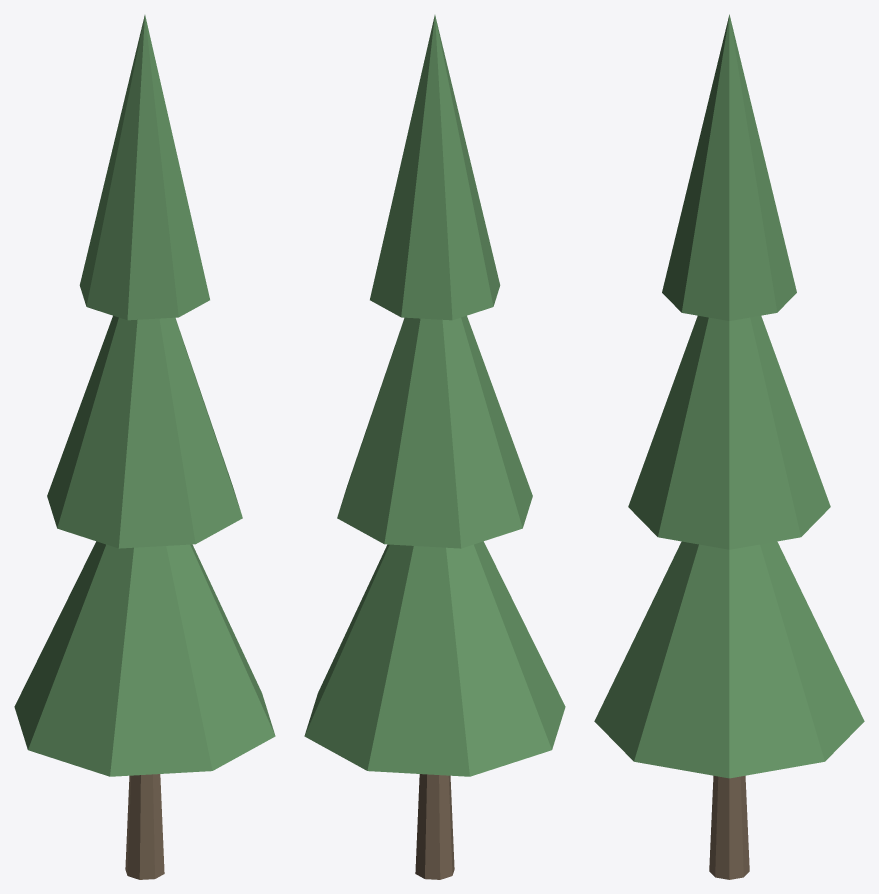
The model's file is pine_large.glb.
3 renders of one model, left to right at view 1: azimuth 30°, elevation 25°; view 2: azimuth 150°, elevation 25°; view 3: azimuth 270°, elevation 25°, orthographic.
Visible parts, largest first — view 1: Pine; view 2: Pine; view 3: Pine.
Part boxes in pixels (bbox=[...]): Pine: bbox=[14, 15, 275, 879]; Pine: bbox=[304, 15, 565, 879]; Pine: bbox=[594, 14, 864, 879].
Size of the model in its own units: 1 by 3.5 by 1.
